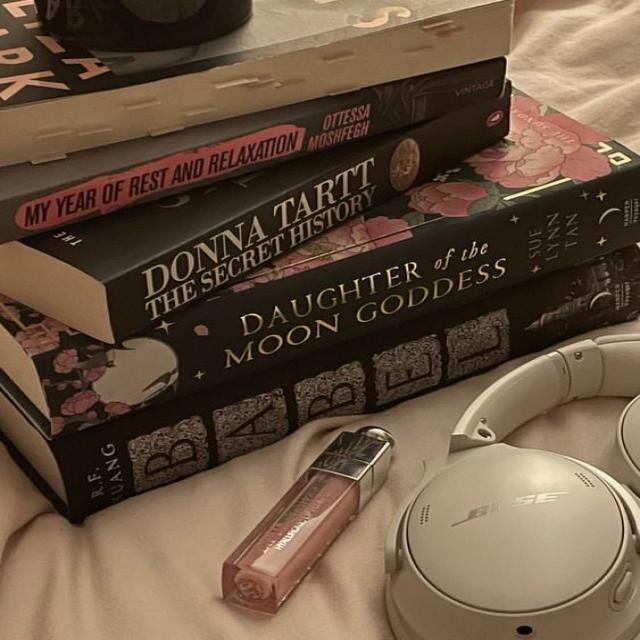book: (38, 163, 638, 439), (59, 243, 639, 521), (111, 91, 507, 344), (0, 58, 505, 243)
